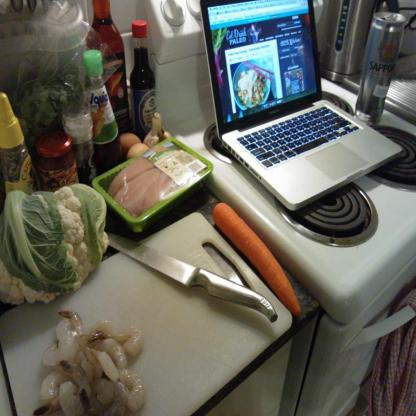board: (197, 0, 402, 211), (103, 232, 278, 324), (88, 0, 130, 138), (355, 11, 404, 123), (82, 48, 122, 173), (0, 90, 39, 200), (130, 21, 158, 140), (35, 132, 80, 191)
